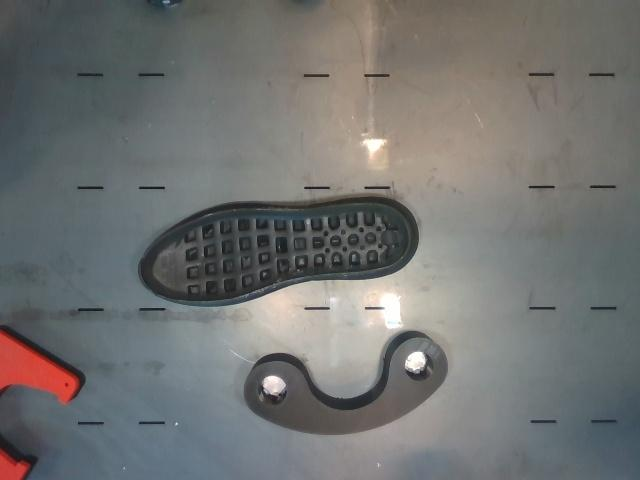shoes: (140, 203, 409, 302)
